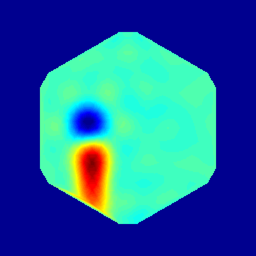ship: (82, 108, 98, 139)
wave: (83, 132, 97, 172)
